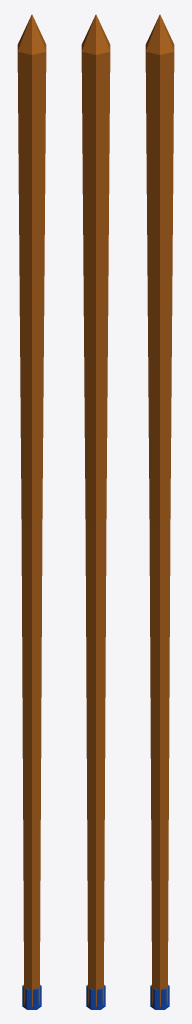
File: pool_cue.obj
The picture shows the model from 3 angles, left to right: view 1: azimuth 90°, elevation 25°; view 2: azimuth 210°, elevation 25°; view 3: azimuth 270°, elevation 25°; orthographic projection.
Visible parts, largest first — view 1: pool_cue; view 2: pool_cue; view 3: pool_cue.
Part boxes in pixels (x1,y1,x2,y2): pool_cue: (17, 14, 46, 1009); pool_cue: (81, 14, 110, 1009); pool_cue: (145, 14, 174, 1009).
Bounding box in the file's own units: 0.044 × 1.46 × 0.0381.
